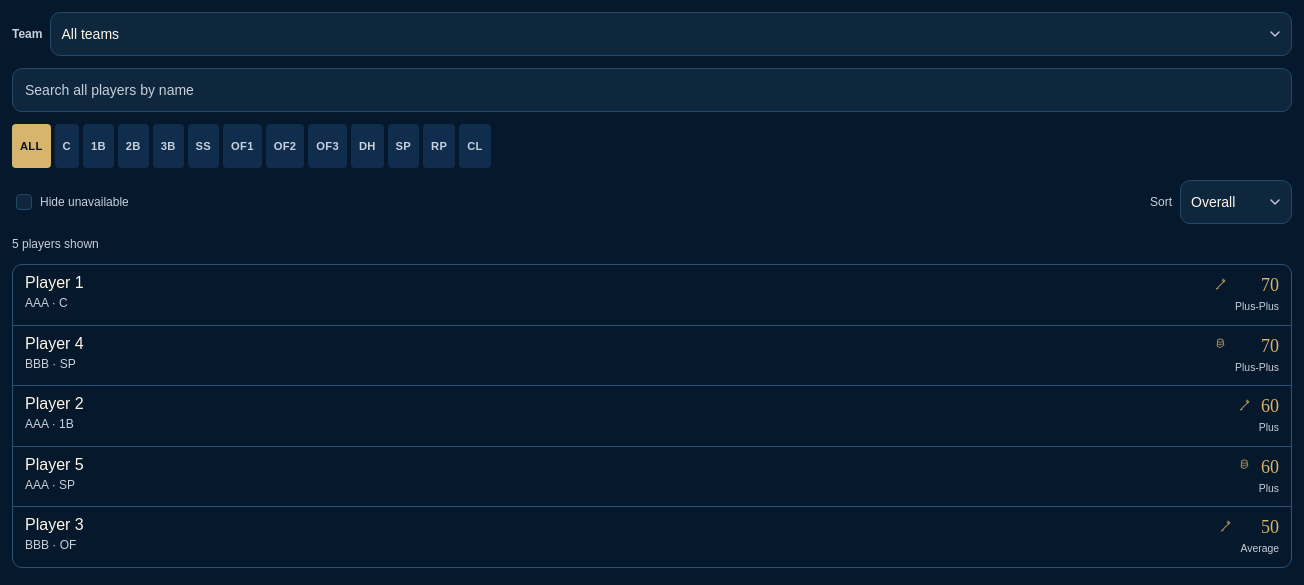
DailyPlayerBrowser › filters to a position when a position chip is clicked
Click the button "C".
click(67, 146)  # box [55, 124, 79, 168]
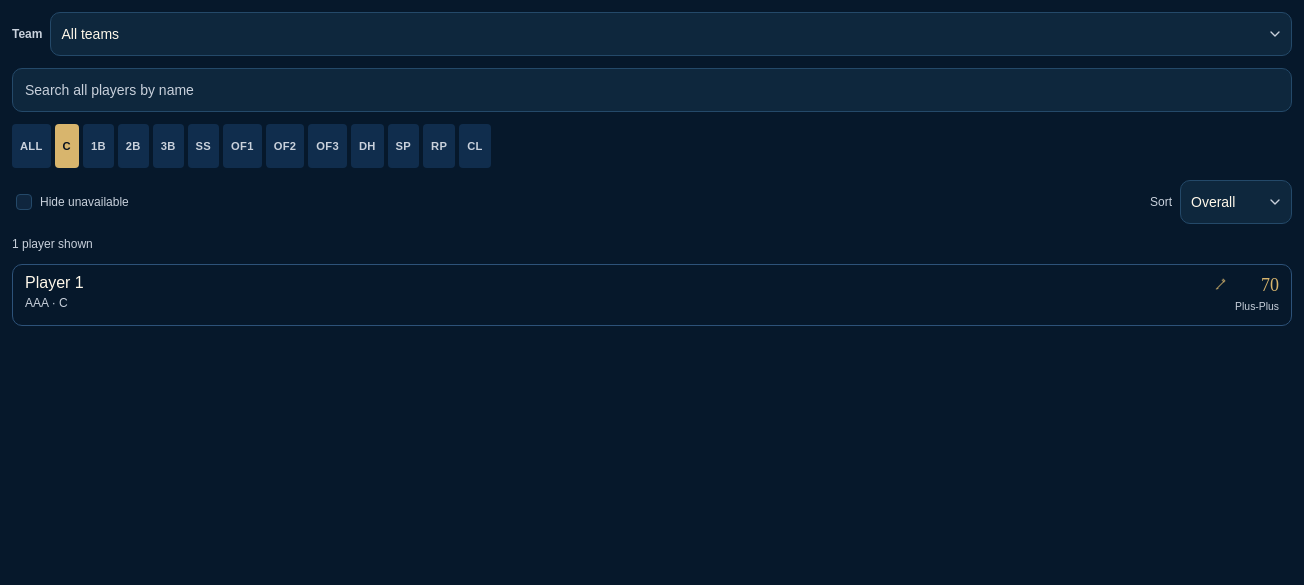
Check: the text "Player 1" is shown once, box [25, 271, 84, 295]
Check: the text "1 player shown" is shown, box [12, 237, 93, 251]
